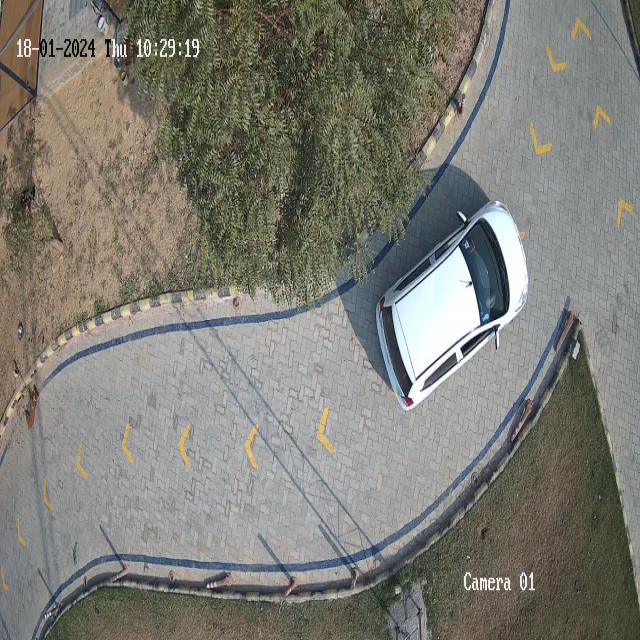car: (375, 202, 529, 411)
